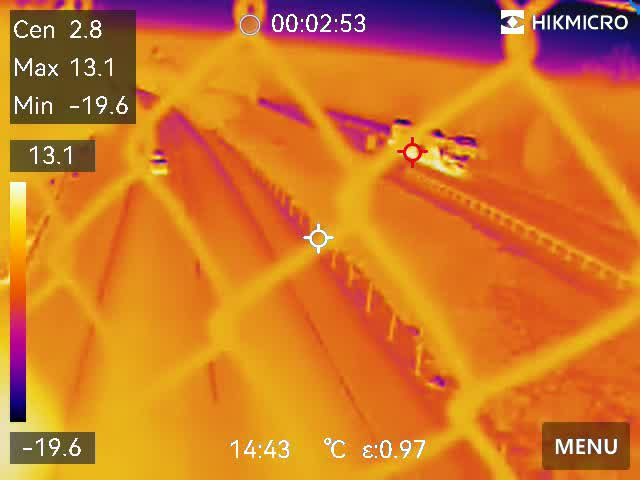heavyTruck: (379, 119, 482, 179)
vehicle: (141, 142, 168, 177)
